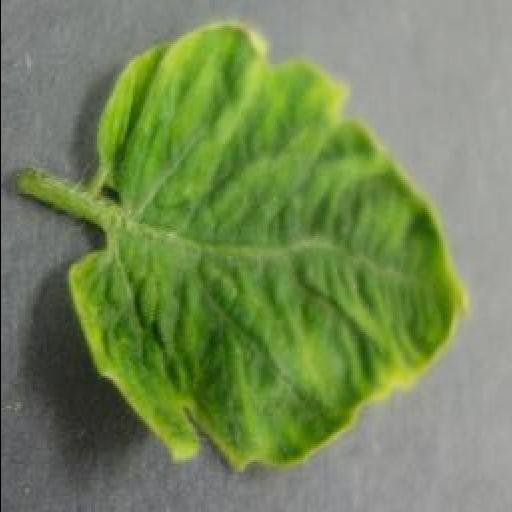disease_tomato: (71, 24, 477, 474)
